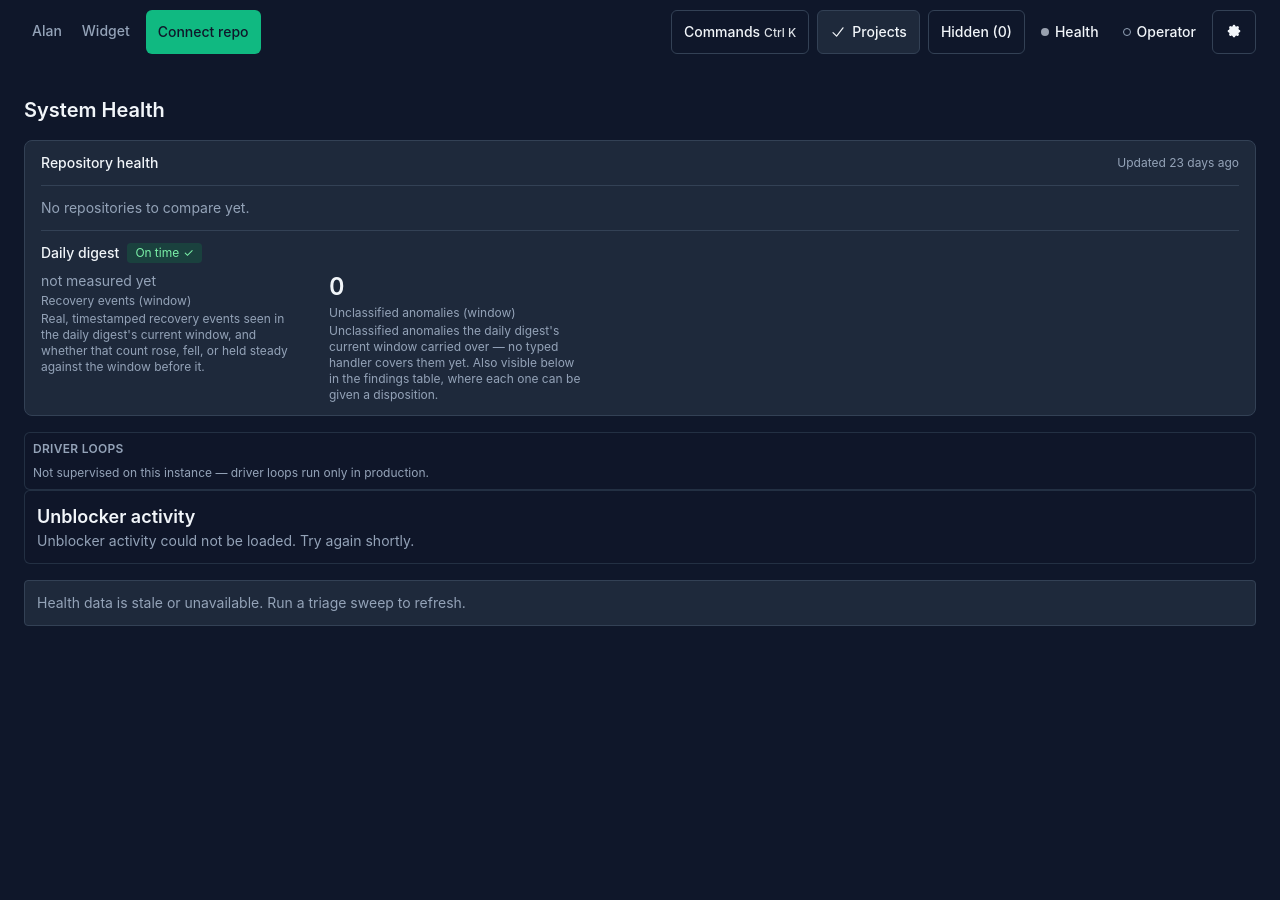
Test case: App shell — Build/Explore shortcuts act on the selected repository › the palette offers no repository-scoped commands on a page with no repository
Check: the heading "System Health" is shown, box 24,98 -> 165,122
Step 1. Click the button with test id "command-palette-trigger" → (740, 32), box 671,10 -> 809,54
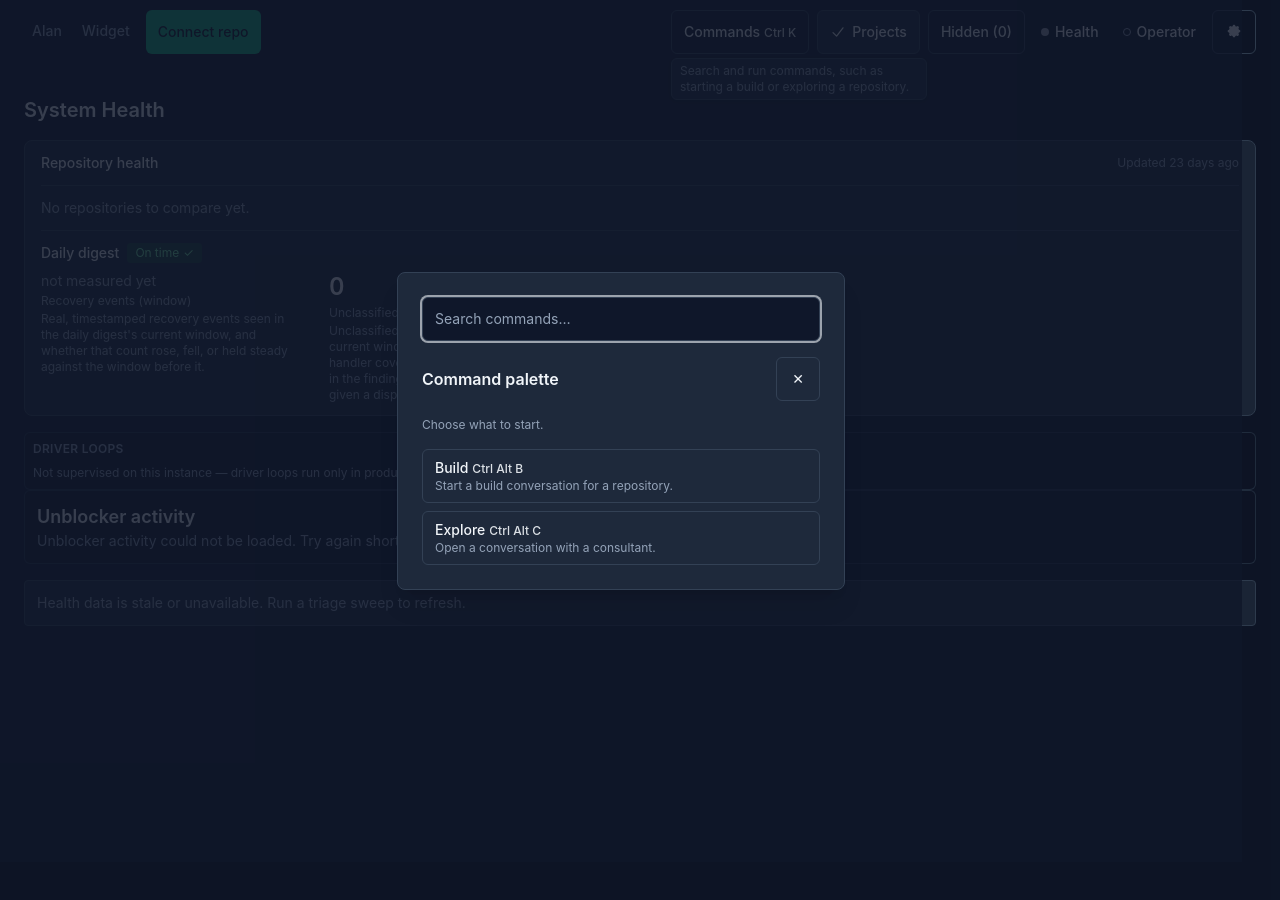
Check: the button with test id "palette-command-build" is shown, box 422,449 -> 820,503
